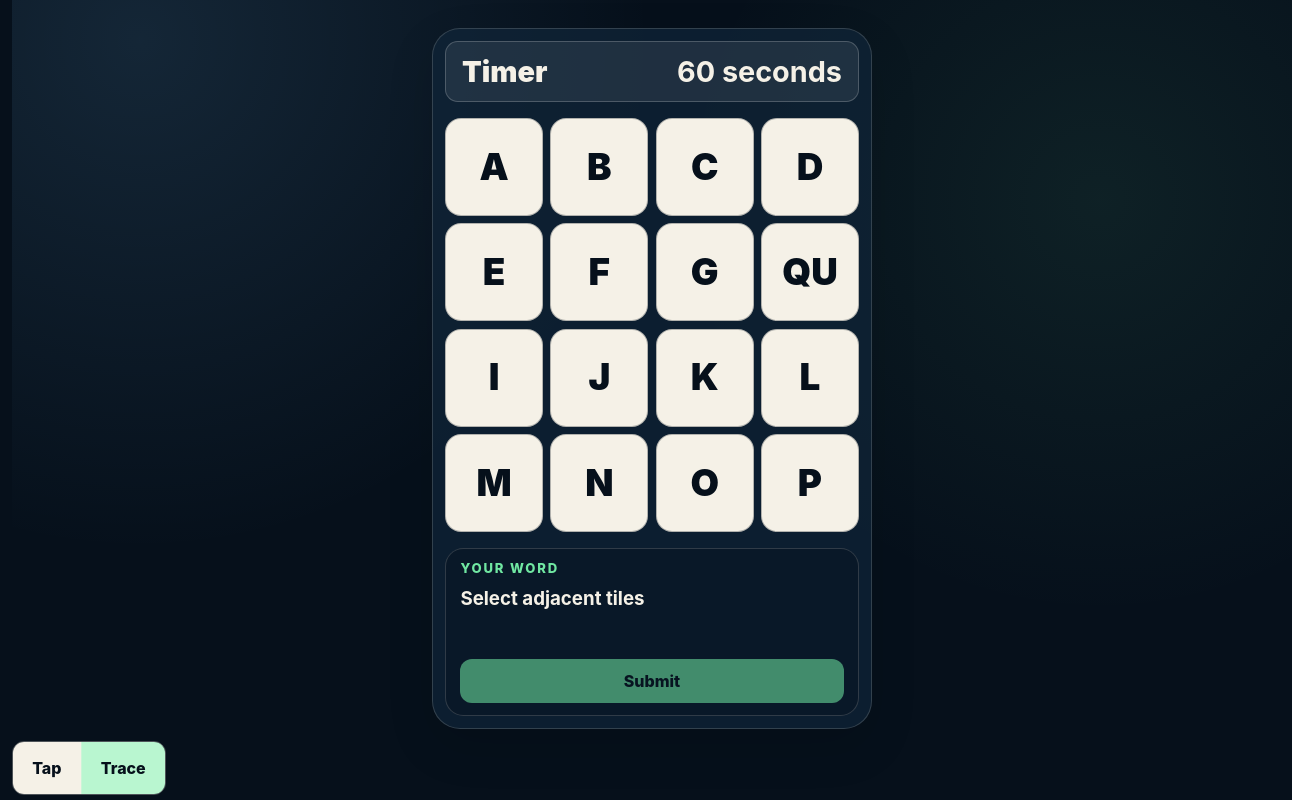
it: RoomLobby word entry › keeps the permanent compact feedback line between the candidate and Submit
The width and height of the screenshot is (1292, 800).
Click the button "Tap" at (47, 768), box [13,742,81,794]
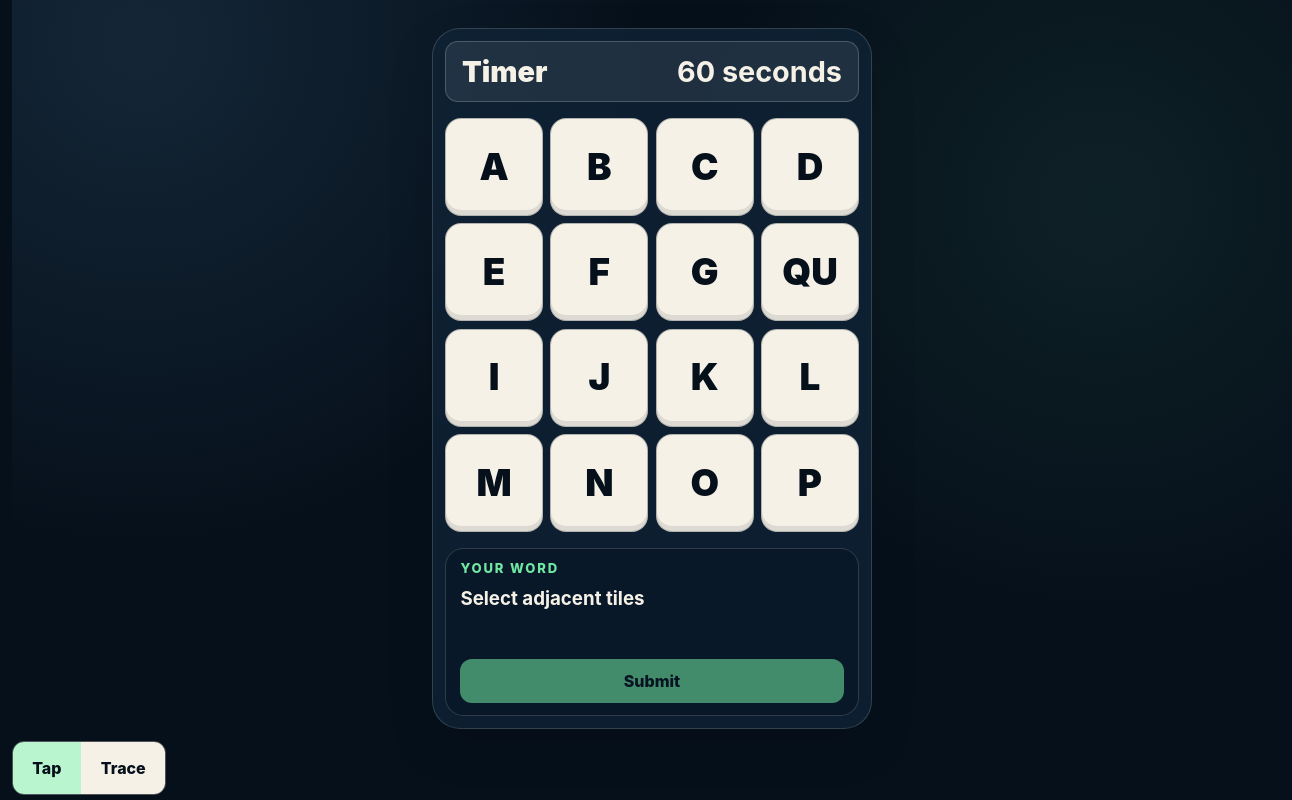
Click the button "A" at (494, 167), box [445,118,543,216]
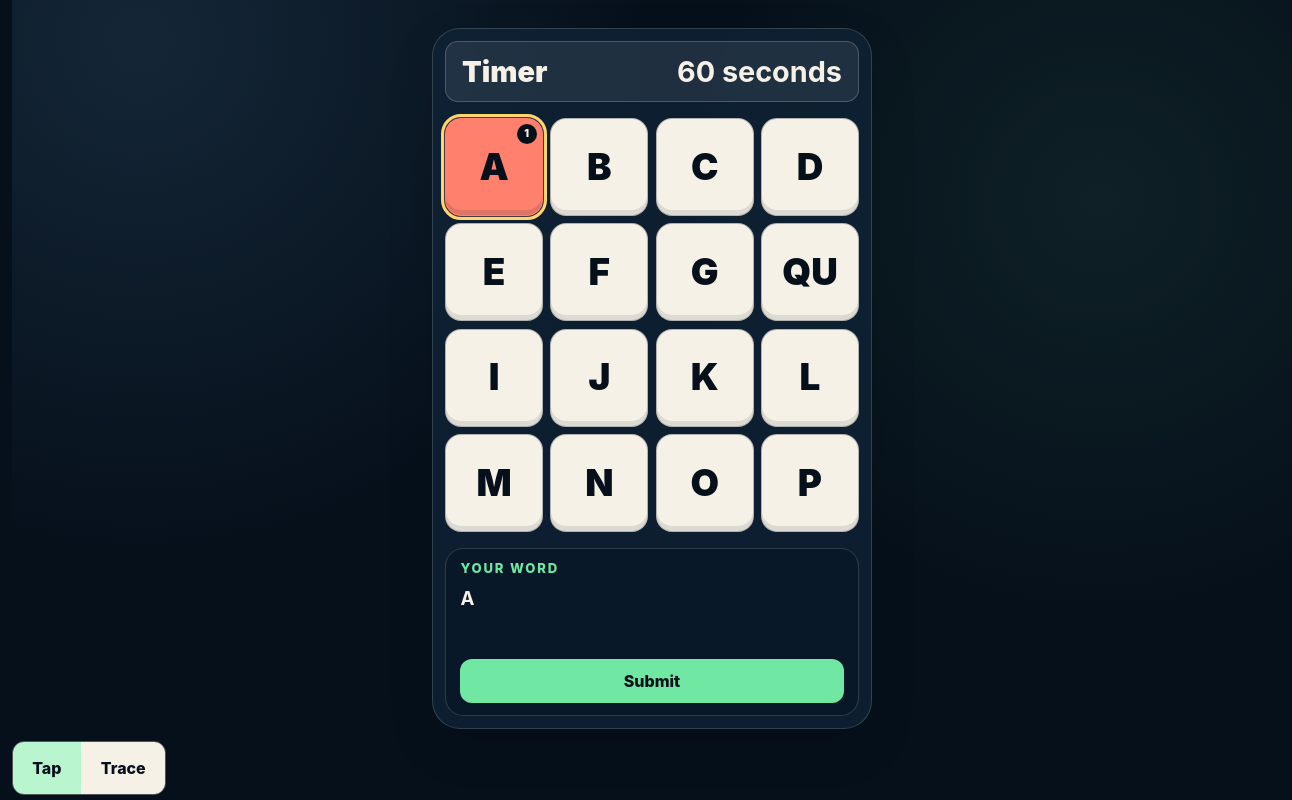
Click the button "B" at (599, 167), box [550,118,648,216]
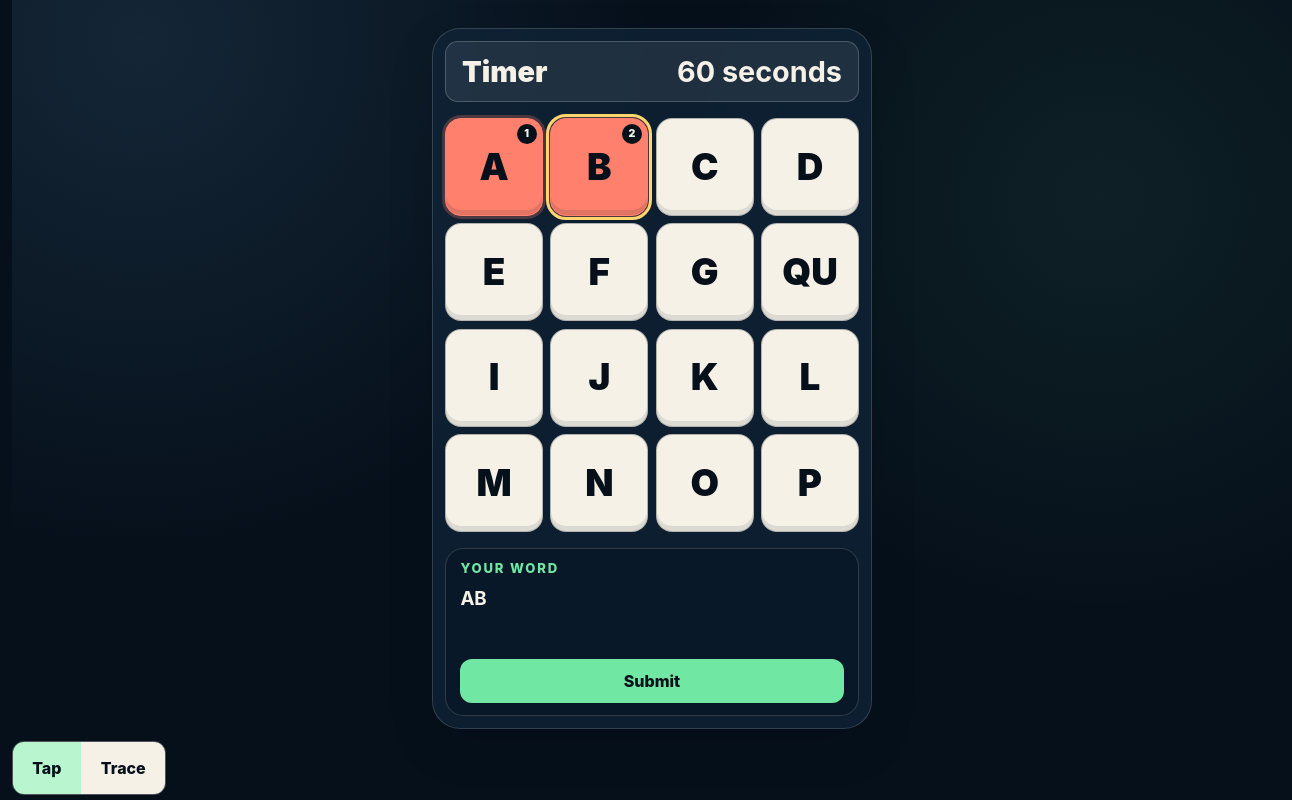
Click the button "C" at (705, 167), box [656,118,754,216]
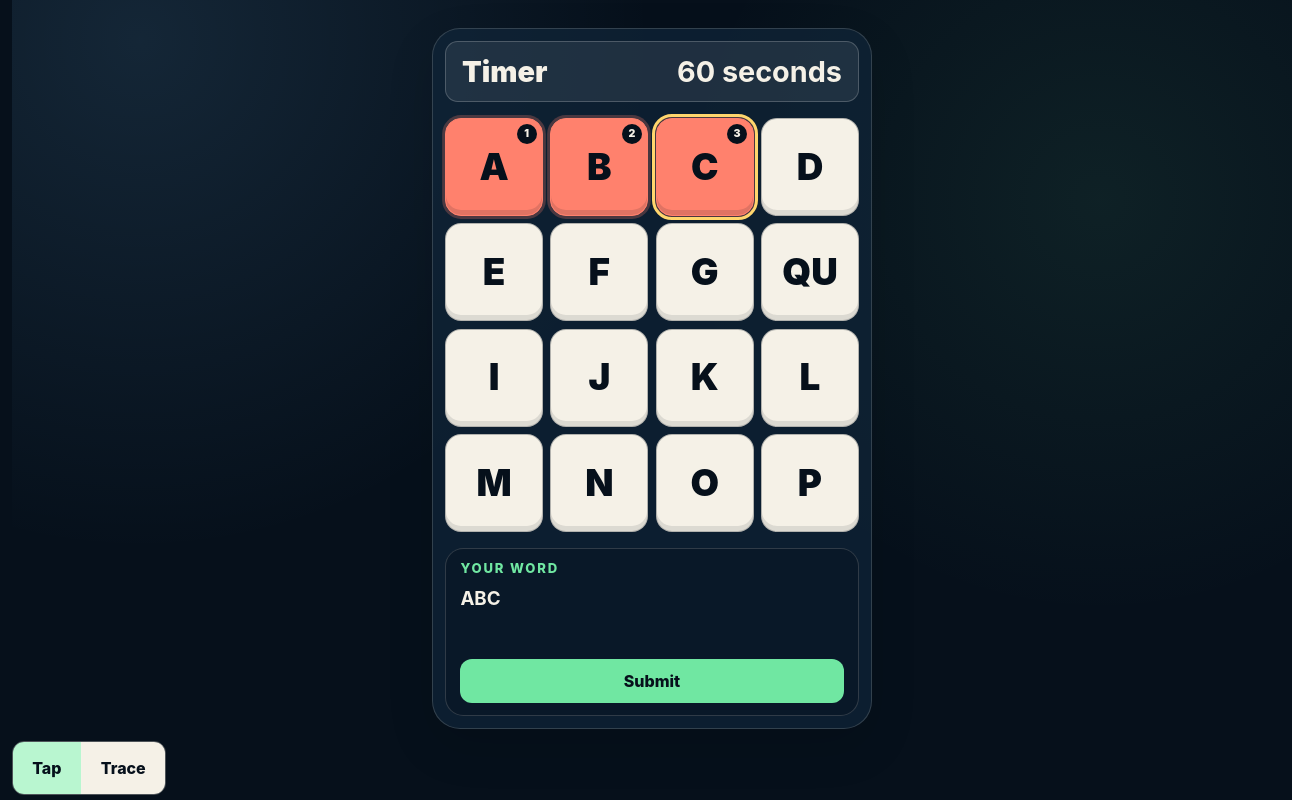
Check: the message is empty, box [460,626,844,643]
Check: the element with class "word-entry__content" is shown, box [460,560,559,610]
Click the button "Submit" at (652, 681), box [460,659,844,703]
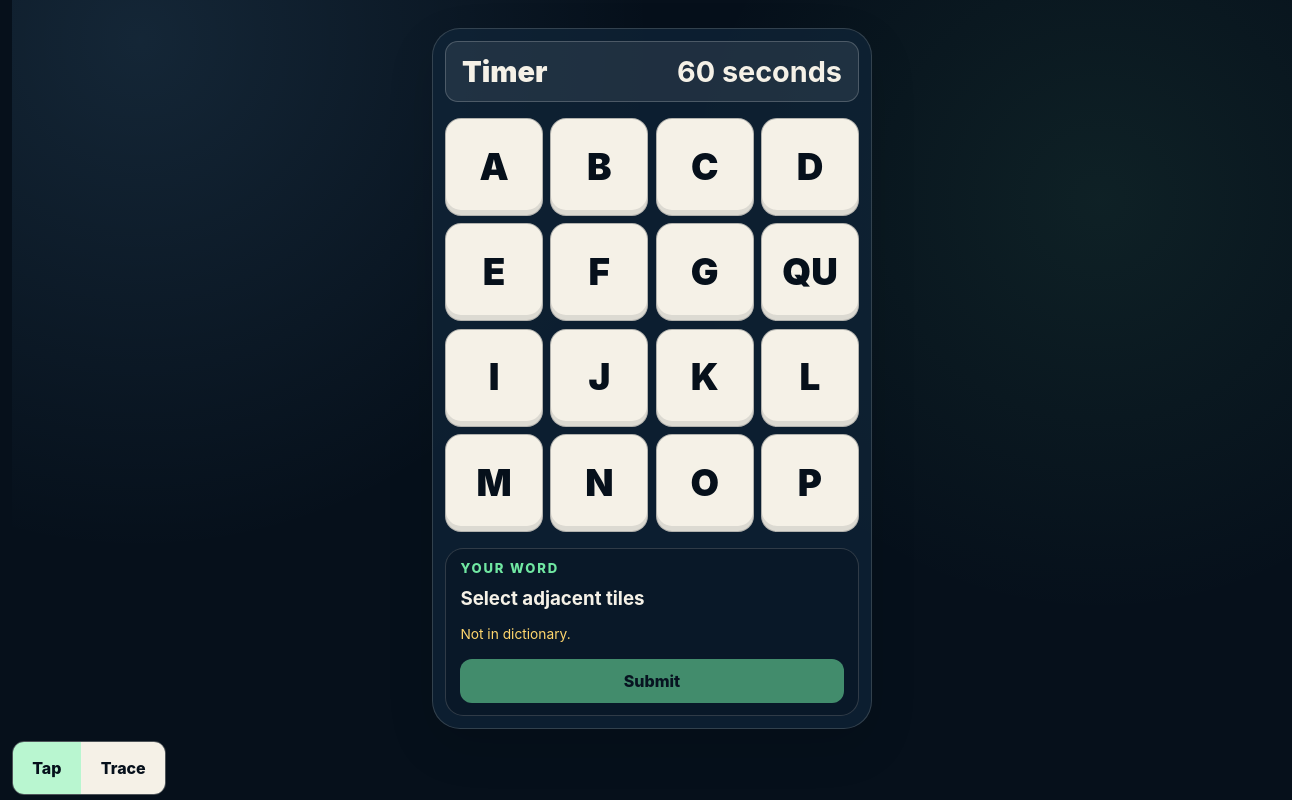
Check: the message reads "Not in dictionary.", box [460,626,571,642]
